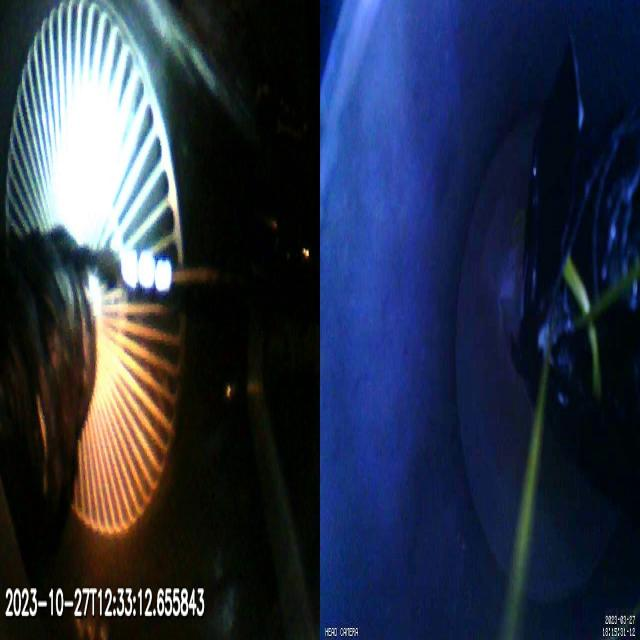white-dots: (120, 248, 172, 294)
